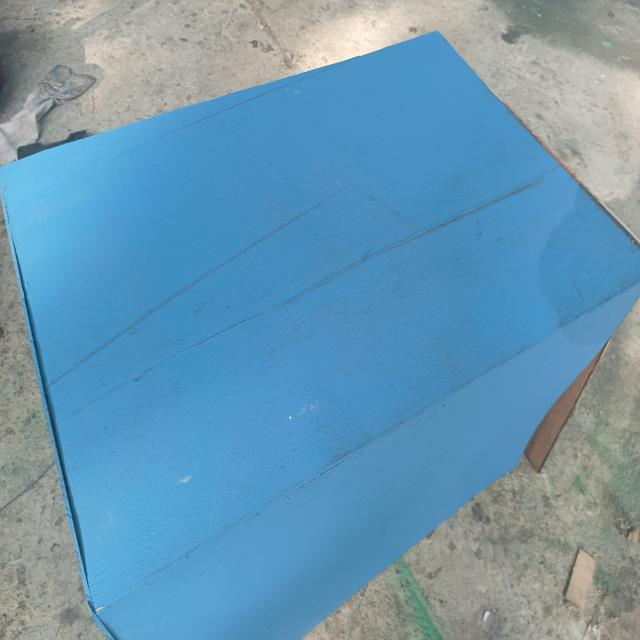blue_box: (2, 33, 640, 632)
